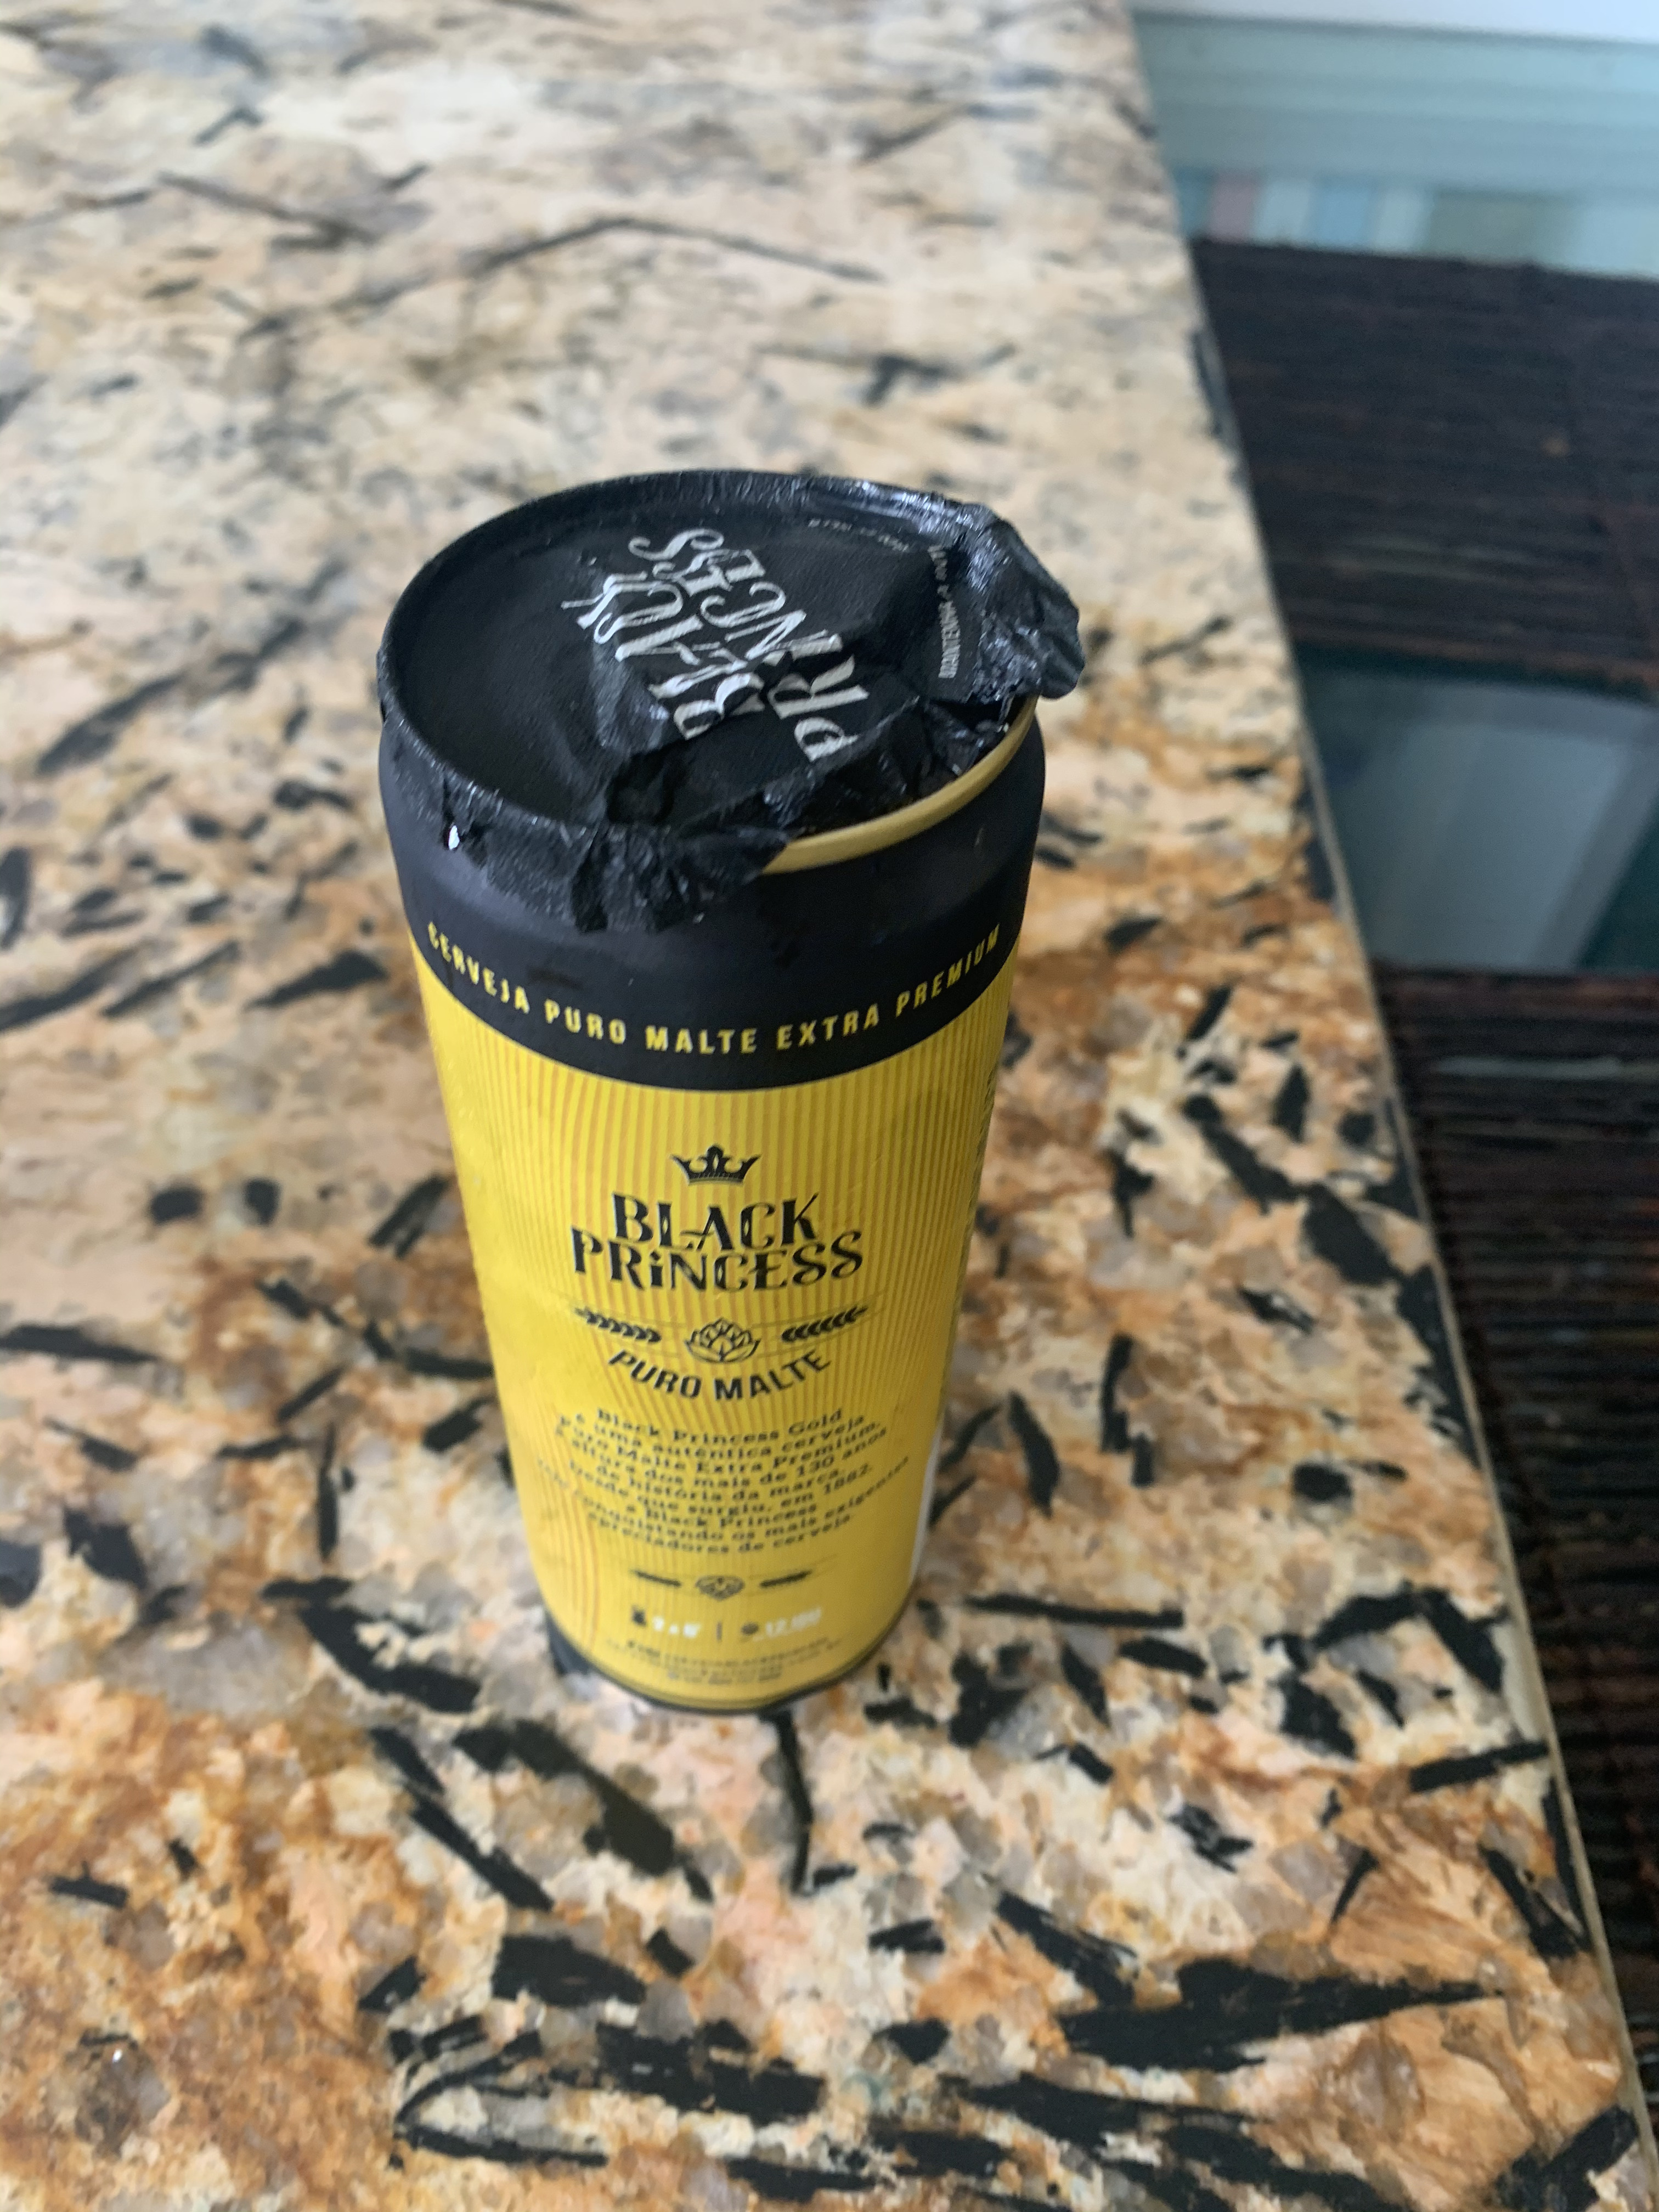blackprincess: (253, 395, 1199, 1892)
